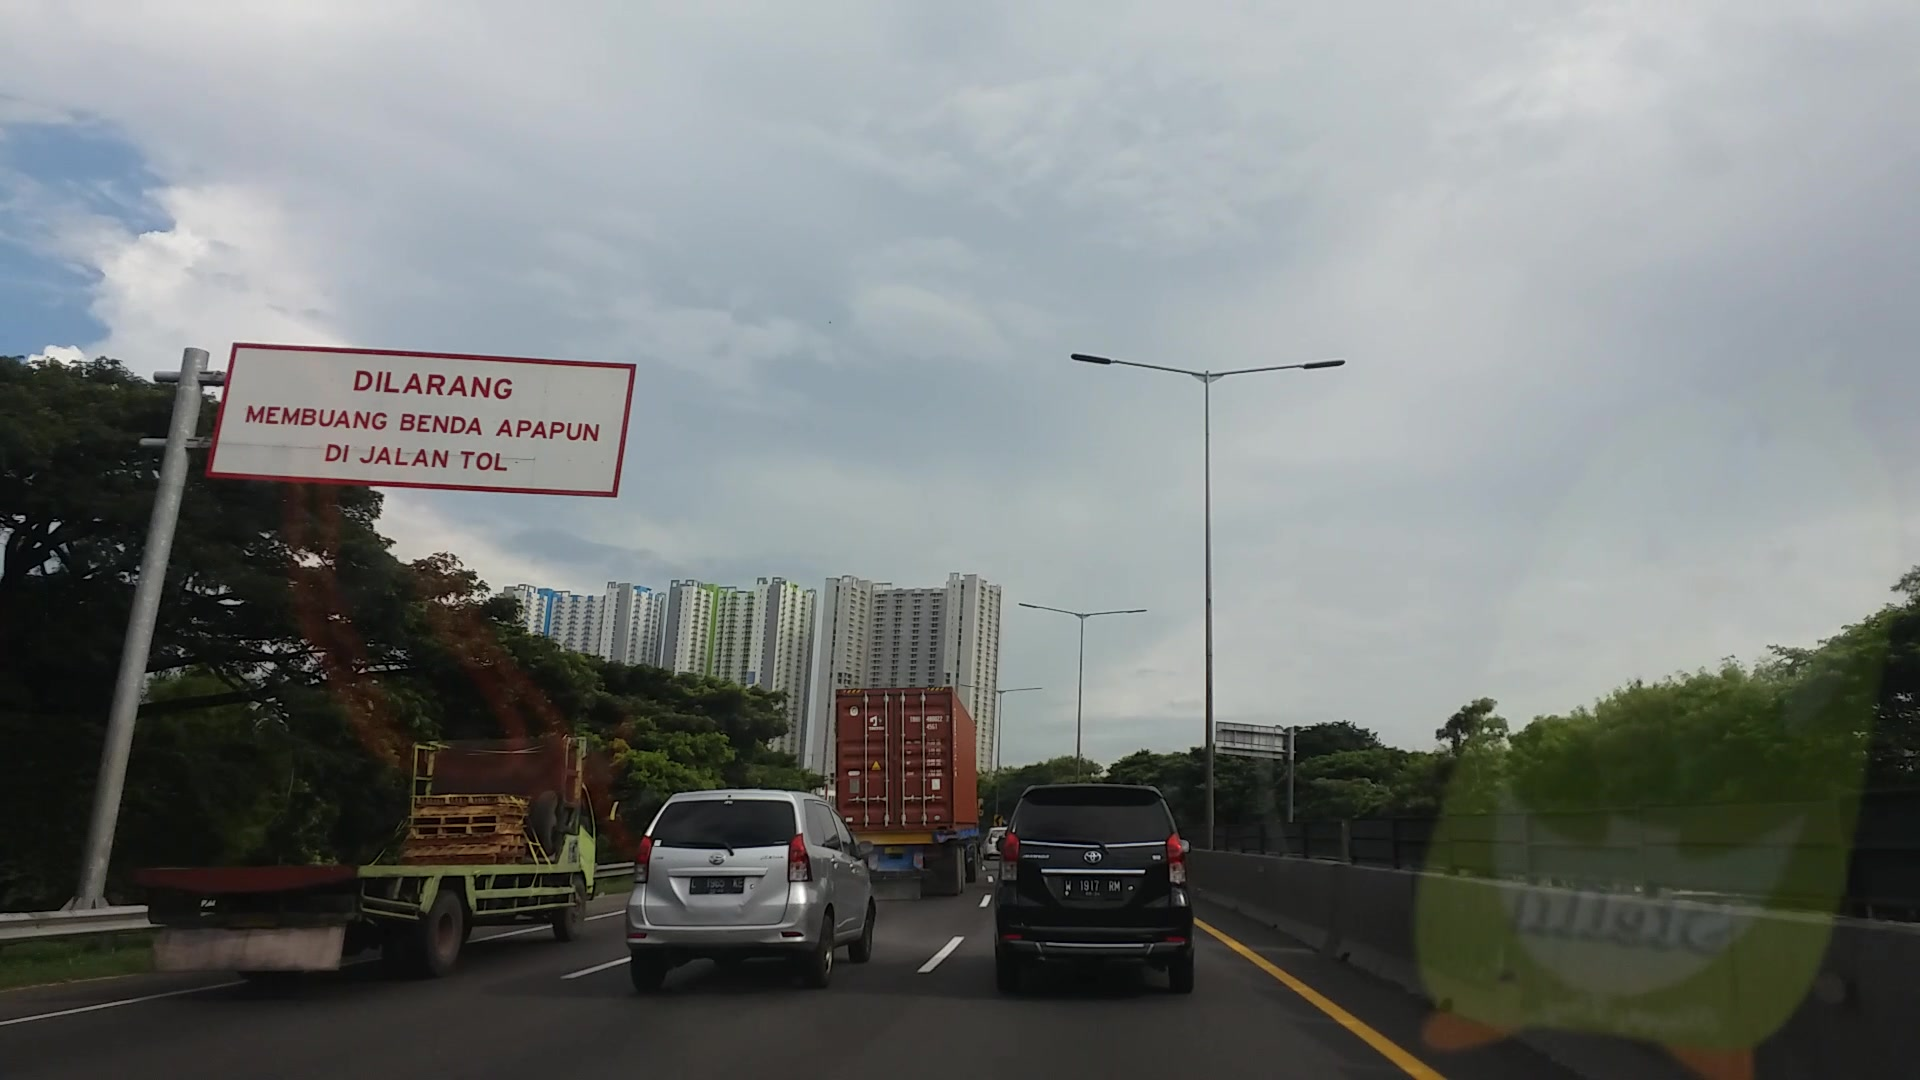plate_positive: (1063, 874, 1124, 899), (688, 876, 744, 894)
